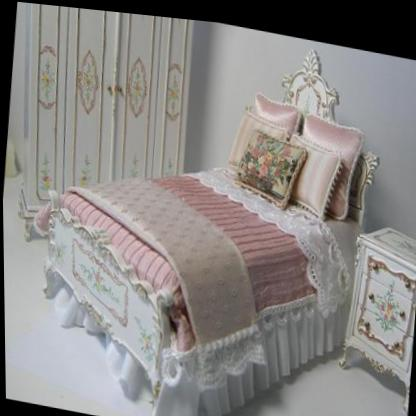Bed: (44, 87, 379, 409)
Nightstand: (340, 218, 416, 407)
